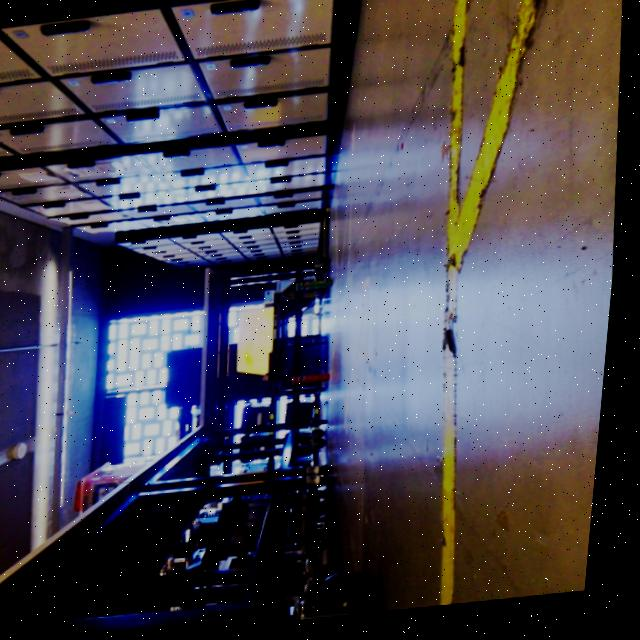greenpringles: (288, 276, 338, 302)
redpringles: (280, 369, 341, 398)
